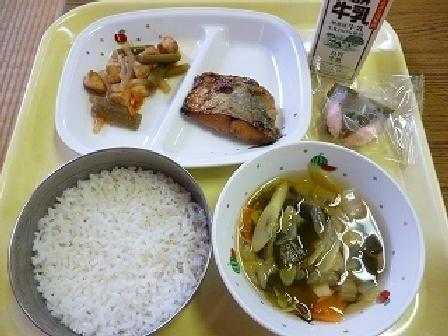Fish: (175, 61, 284, 153)
Milk: (300, 0, 402, 85)
Rice: (13, 151, 212, 329)
Soups: (220, 150, 426, 326)
vegetable based cooked food: (82, 27, 187, 125)
